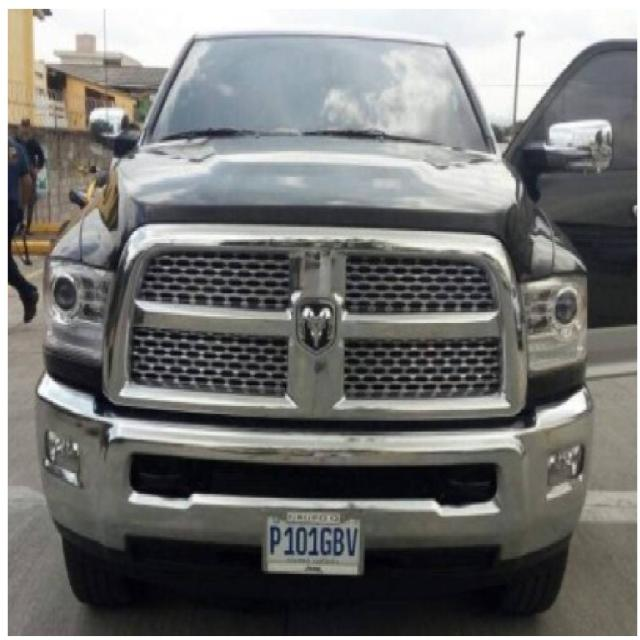Placas: (264, 515, 365, 581)
